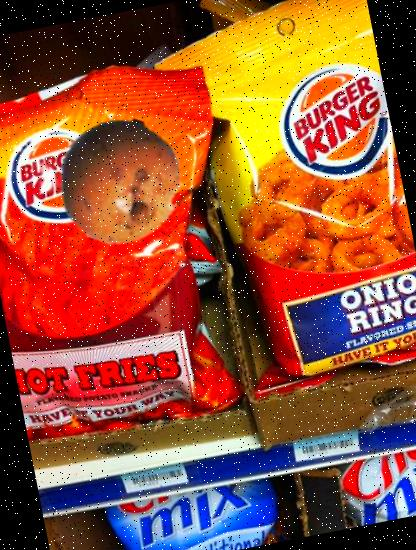Granadilla: (45, 106, 194, 255)
